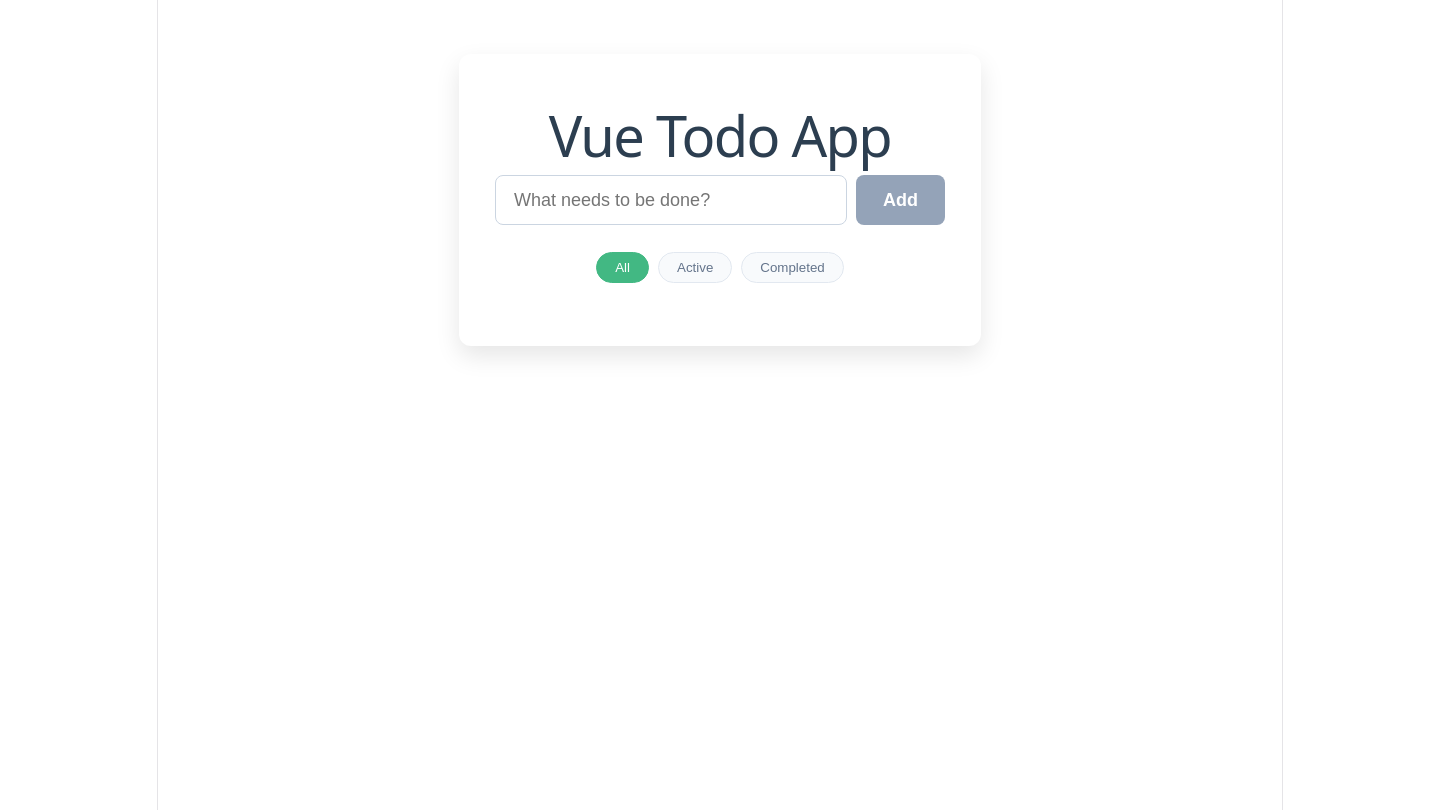
Test: App.vue Integration › allows user to delete a todo from the list
Type "To be deleted" into the field with placeholder "What needs to be done?".
click(671, 200); type("To be deleted")  # box [495,175,847,225]
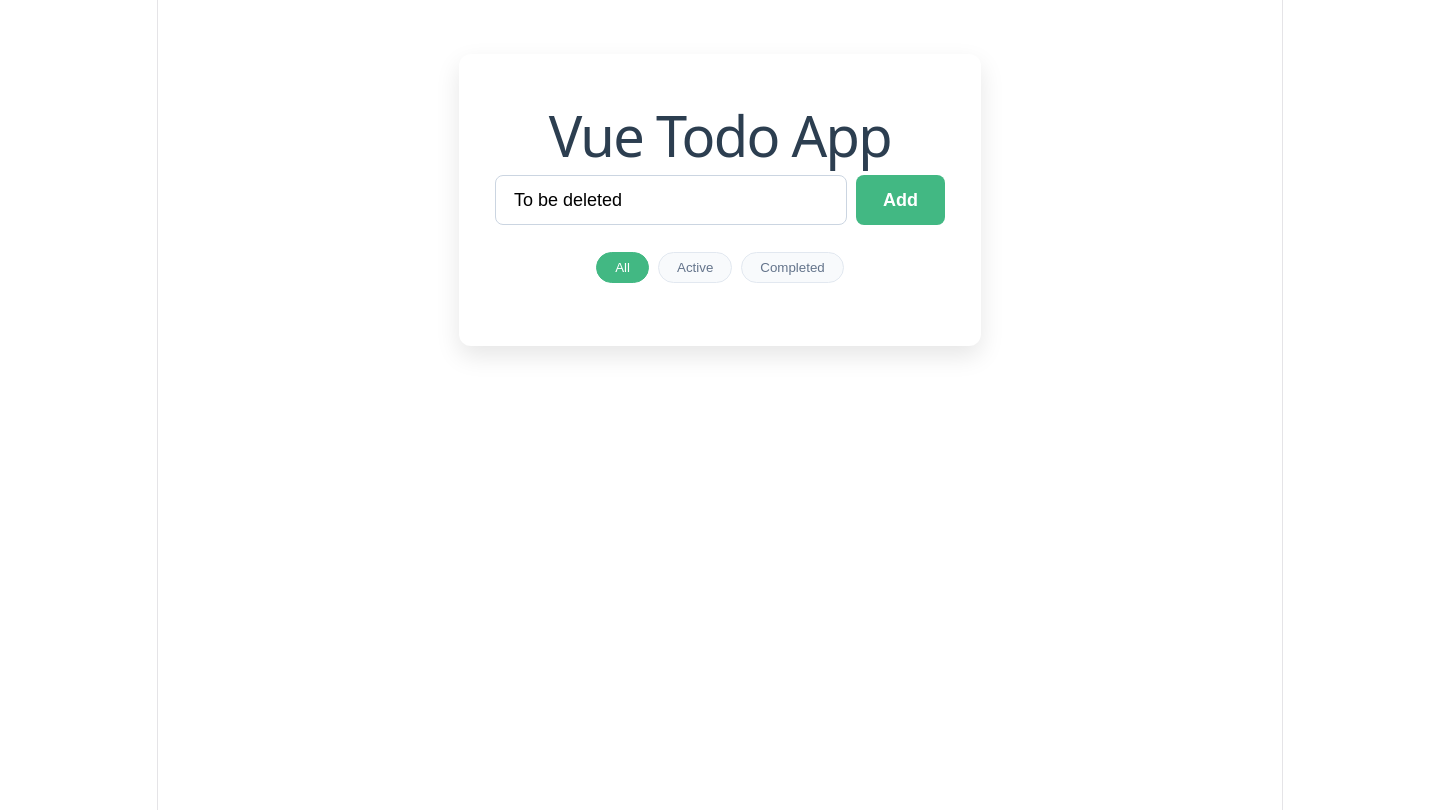
Submit the form, box [495,175,945,225]
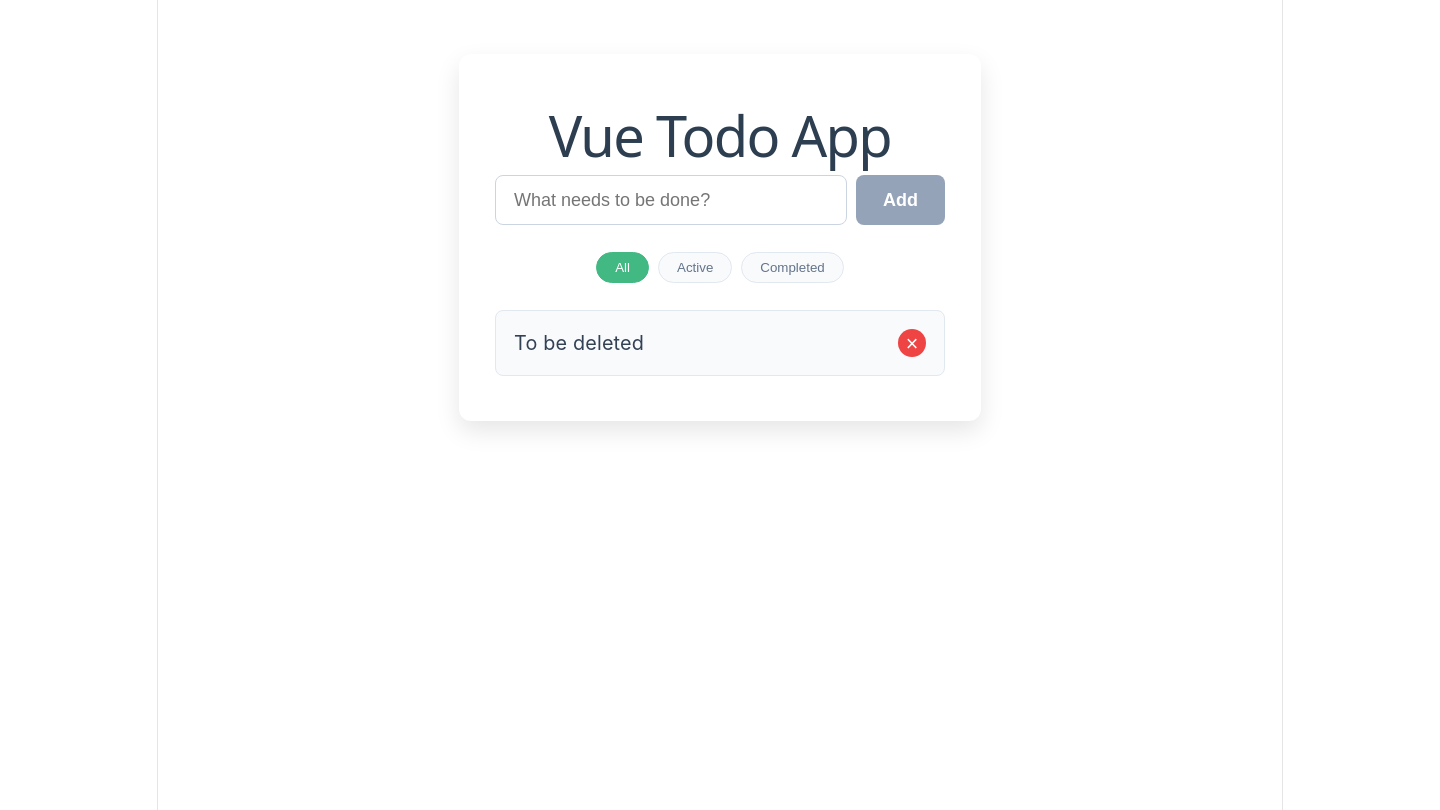
Check: the number of list items is 1, box [495,310,945,376]
# ค้นหาปุ่ม Delete และกดคลิกเพื่อลบ
Click the button with class "delete-btn".
click(912, 344)  # box [898,330,926,358]
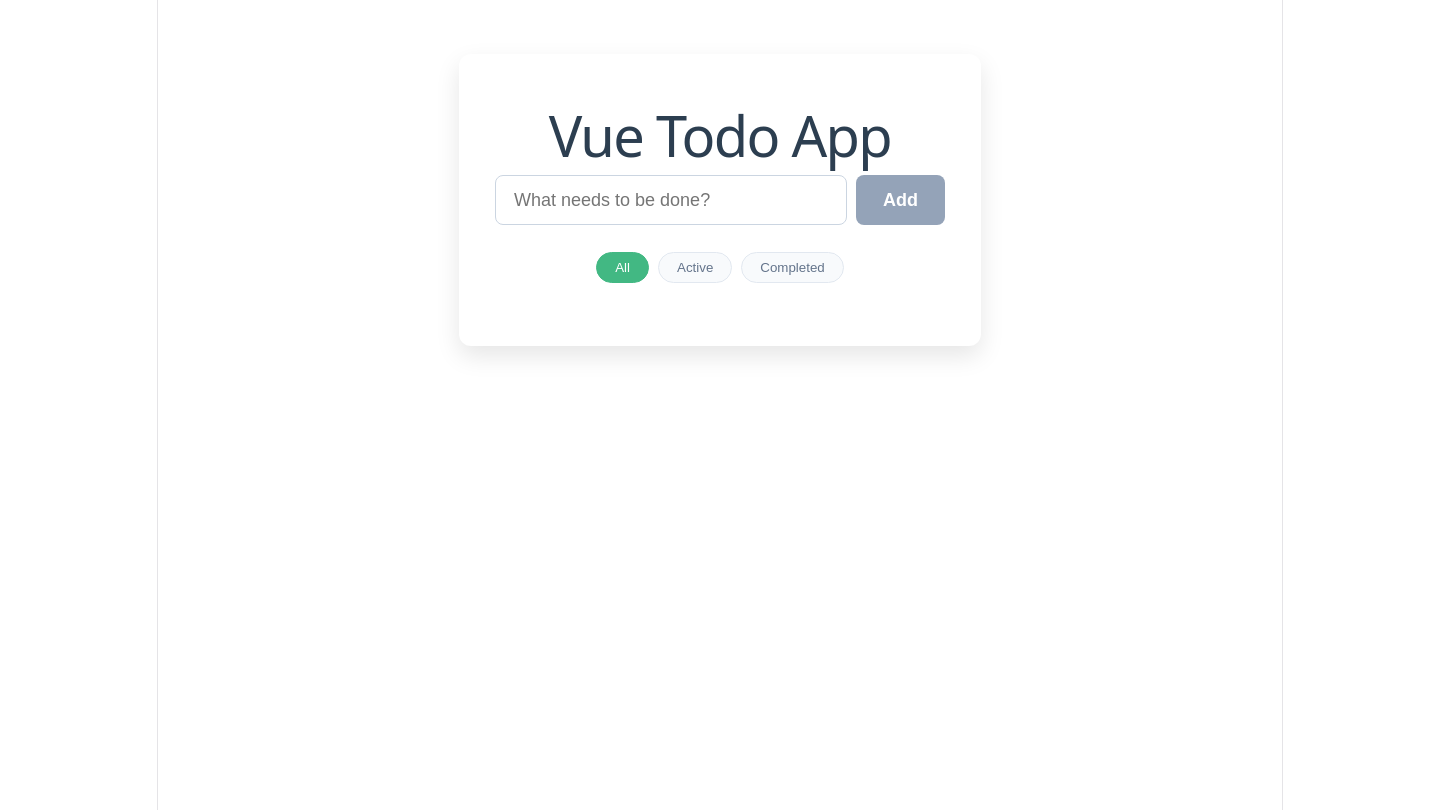
Check: no list items are shown
